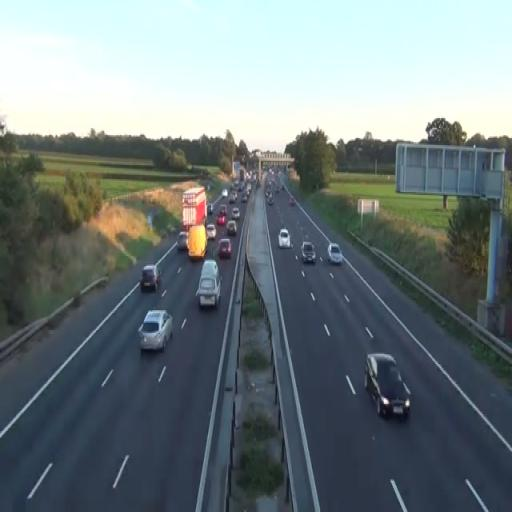Car: (364, 352, 411, 420), (138, 309, 174, 351), (196, 260, 222, 310), (140, 264, 160, 292), (327, 242, 343, 266), (217, 238, 232, 260), (301, 242, 316, 264), (278, 228, 292, 250), (206, 224, 217, 240), (227, 221, 237, 236), (232, 206, 240, 220)
Truck: (178, 186, 207, 250), (187, 225, 207, 260)
